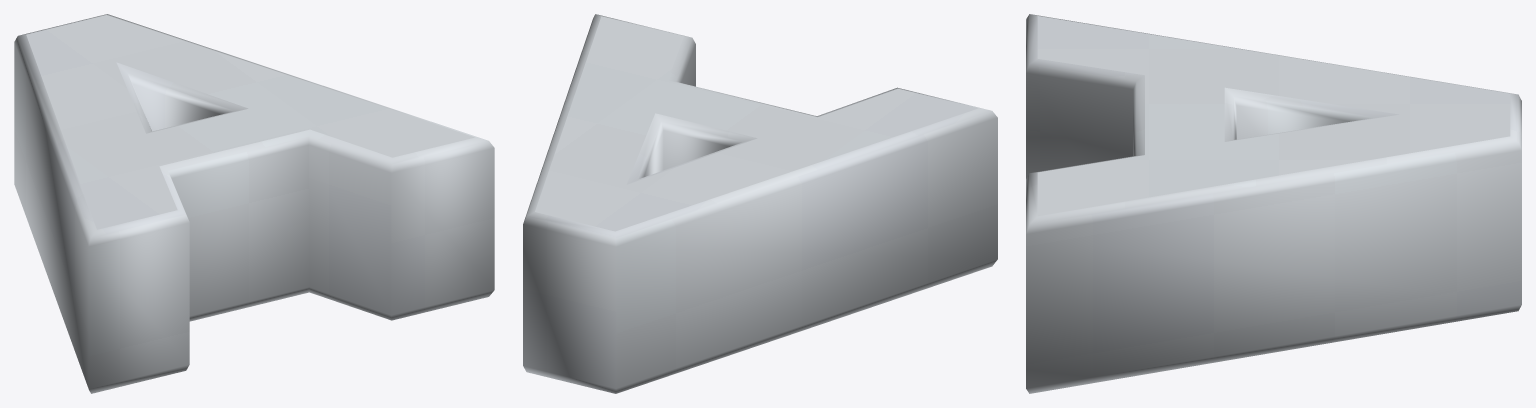
Rendered from title_letter_09.obj.
The picture shows the model from 3 angles, left to right: view 1: azimuth 30°, elevation 25°; view 2: azimuth 150°, elevation 25°; view 3: azimuth 270°, elevation 25°; orthographic projection. The views are drawn at different scales.
Parts seen in each view (by area): view 1: TitleLetter10_A; view 2: TitleLetter10_A; view 3: TitleLetter10_A.
Part boxes in pixels (x1,y1,x2,y2): TitleLetter10_A: (14, 14, 494, 393); TitleLetter10_A: (523, 14, 997, 393); TitleLetter10_A: (1026, 14, 1521, 393).
Bounding box in the file's own units: 1.15 × 0.4376 × 1.12.
1 material, 1 textured.
